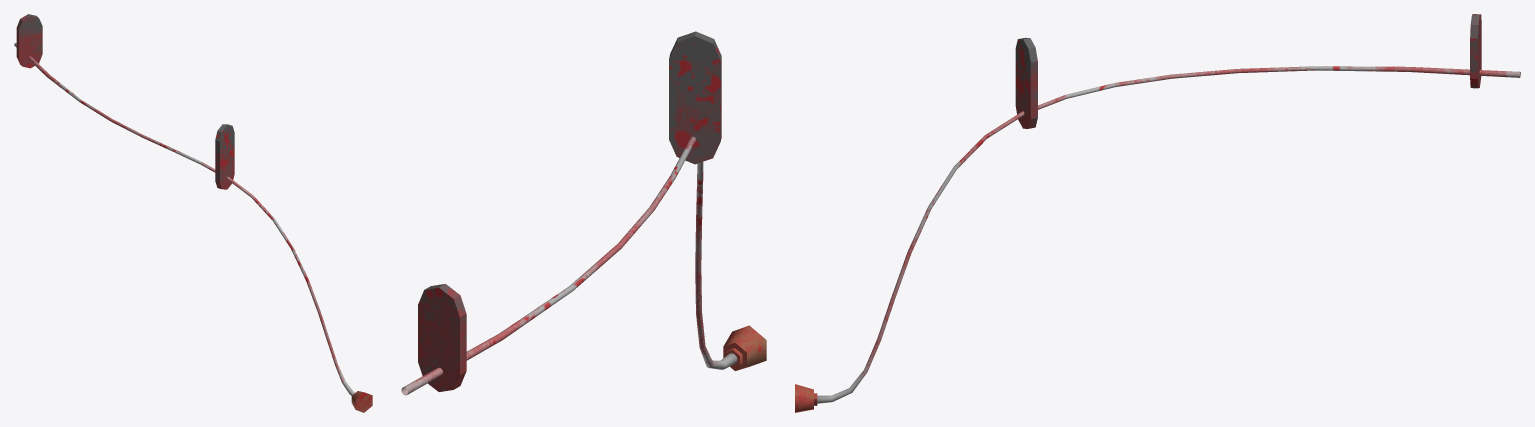
File: cable.fbx
3 views of the same model, side by side, from view 1: azimuth 30°, elevation 25°; view 2: azimuth 150°, elevation 25°; view 3: azimuth 270°, elevation 25° (orthographic). The views are drawn at different scales.
Visible parts, largest first — view 1: Circle.002; view 2: Circle.002; view 3: Circle.002.
Boxes of the visible parts, x1,y1,x2,y2 form: Circle.002: (14, 14, 372, 412); Circle.002: (401, 31, 766, 395); Circle.002: (795, 14, 1520, 412).
Size of the model in its own units: 82.54 by 337 by 172.
